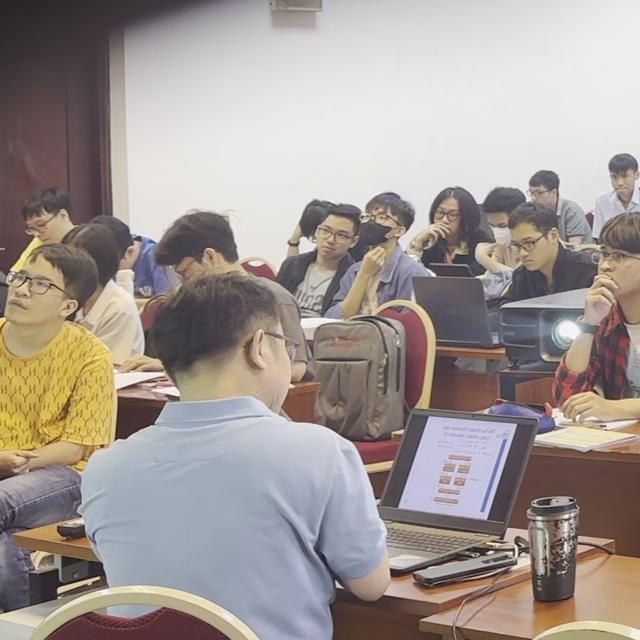Looking away: (514, 224, 547, 269), (29, 207, 56, 243), (434, 201, 459, 234), (529, 184, 547, 207)
Looking forward: (3, 262, 61, 324), (597, 250, 640, 295), (316, 218, 351, 255), (358, 208, 394, 243), (612, 169, 634, 197)
